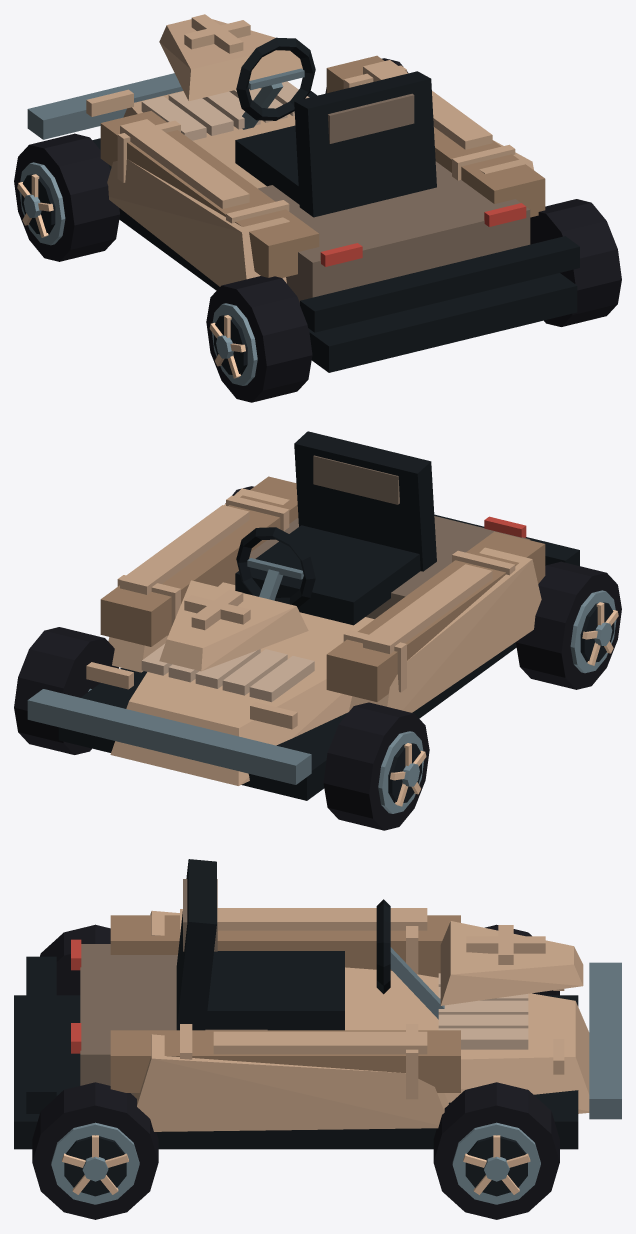
Rendered from kart.glb.
The picture shows the model from 3 angles, top to bottom: view 1: azimuth 30°, elevation 25°; view 2: azimuth 150°, elevation 25°; view 3: azimuth 270°, elevation 25°; orthographic projection. The views are drawn at different scales.
Visible parts, largest first — view 1: chassis, wheel-rear-left, wheel-front-left, wheel-rear-right; view 2: chassis, wheel-front-left, wheel-rear-left, wheel-front-right; view 3: chassis, wheel-front-right, wheel-rear-right, wheel-rear-left.
Boxes of the visible parts, bbox=[...] form: chassis: bbox=[27, 14, 579, 372]; wheel-rear-left: bbox=[206, 276, 312, 402]; wheel-front-left: bbox=[14, 133, 119, 261]; wheel-rear-right: bbox=[530, 199, 621, 326]; chassis: bbox=[27, 431, 579, 800]; wheel-front-left: bbox=[323, 702, 429, 830]; wheel-rear-left: bbox=[516, 561, 621, 689]; wheel-front-right: bbox=[14, 627, 118, 754]; chassis: bbox=[14, 859, 621, 1149]; wheel-front-right: bbox=[433, 1082, 559, 1219]; wheel-rear-right: bbox=[32, 1082, 158, 1219]; wheel-rear-left: bbox=[40, 924, 110, 995].
Bounding box in the file's own units: 2.27 × 1.3 × 2.99.
